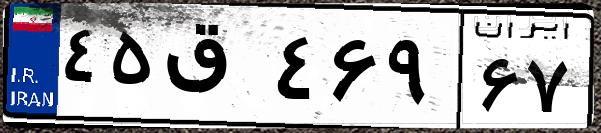4: (270, 28, 330, 110), (57, 26, 110, 100)
5: (110, 28, 158, 98)
6: (330, 28, 385, 110), (475, 38, 525, 113)
7: (525, 38, 570, 115)
9: (385, 28, 445, 110)
ق: (158, 20, 270, 120)
